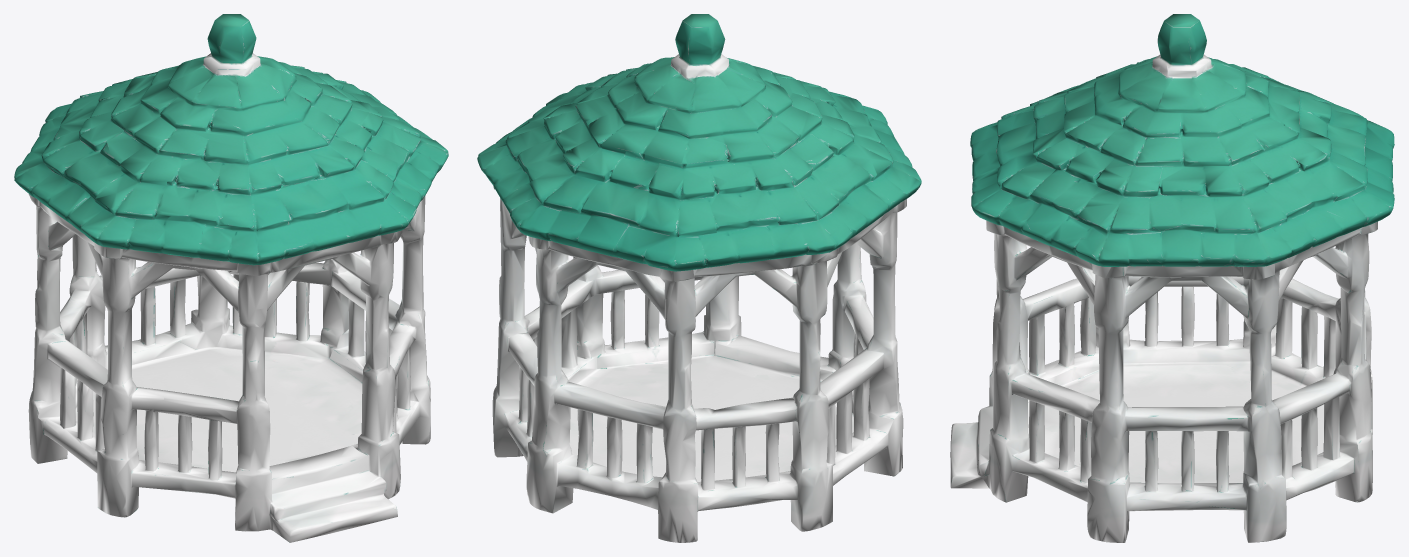
Rendered from 2b1ff369-4fd9-4bd2-8def-d125a0065606.glb.
3 renders of one model, left to right at view 1: azimuth 30°, elevation 25°; view 2: azimuth 150°, elevation 25°; view 3: azimuth 270°, elevation 25°, orthographic. The views are drawn at different scales.
Parts seen in each view (by area): view 1: Mesh_0; view 2: Mesh_0; view 3: Mesh_0.
Part boxes in pixels (box(x1,y1,x2,y2)): Mesh_0: box(14, 14, 448, 542); Mesh_0: box(477, 14, 921, 542); Mesh_0: box(950, 14, 1394, 542).
Bounding box in the file's own units: 1.65 × 1.9 × 1.73.
Materials: 1 (1 with a texture image).
